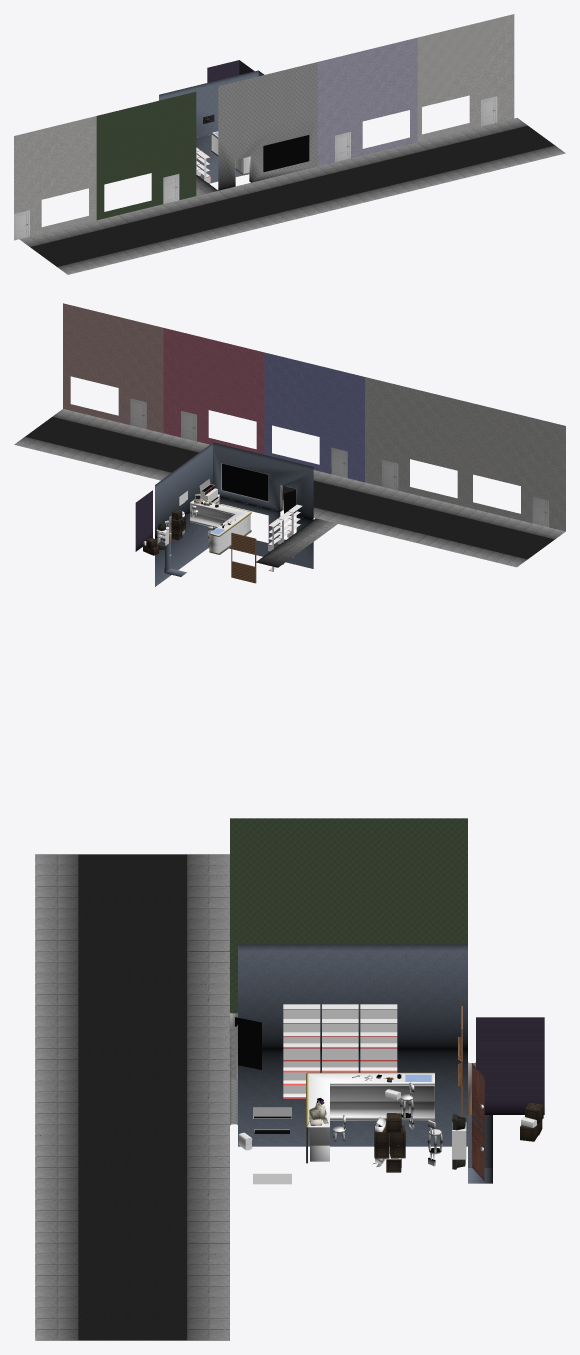
Rendered from mainmenu.glb.
3 views of the same model, one above another, from view 1: azimuth 30°, elevation 25°; view 2: azimuth 150°, elevation 25°; view 3: azimuth 270°, elevation 25° (orthographic). The views are drawn at different scales.
Parts seen in each view (by area): view 1: Plane.004, Plane.006, Plane.005, Plane, Plane.008, Circle.002; view 2: Plane.006, Plane.004, Plane, Plane.005, Circle.002, Plane.008, Plane.003, Cube; view 3: Plane.004, Plane.006, Plane, Cube, Plane.008, Circle.002, Plane.005, Cube.012, Cube.002, Cube.007.
Boxes of the visible parts, x1,y1,x2,y2 form: Plane.004: [14, 14, 514, 274]; Plane.006: [219, 118, 565, 226]; Plane.005: [218, 62, 317, 190]; Plane: [159, 70, 264, 183]; Plane.008: [207, 60, 254, 82]; Circle.002: [211, 131, 249, 175]; Plane.006: [14, 303, 364, 518]; Plane.004: [256, 377, 565, 567]; Plane: [155, 442, 313, 586]; Plane.005: [213, 446, 313, 519]; Circle.002: [190, 500, 251, 554]; Plane.008: [135, 490, 174, 555]; Plane.003: [231, 532, 256, 583]; Cube: [268, 504, 302, 571]; Plane.004: [35, 818, 467, 1048]; Plane.006: [35, 1049, 229, 1340]; Plane: [238, 944, 492, 1183]; Cube: [283, 1004, 397, 1098]; Plane.008: [468, 1017, 544, 1141]; Circle.002: [306, 1072, 434, 1163]; Plane.005: [230, 1013, 261, 1125]; Cube.012: [372, 1113, 405, 1172]; Cube.002: [238, 1107, 291, 1184]; Cube.007: [427, 1114, 466, 1169].
Size of what is drawn, in the model's own units: 40.42 by 11.77 by 17.71.
Materials: 33 (24 with a texture image).
